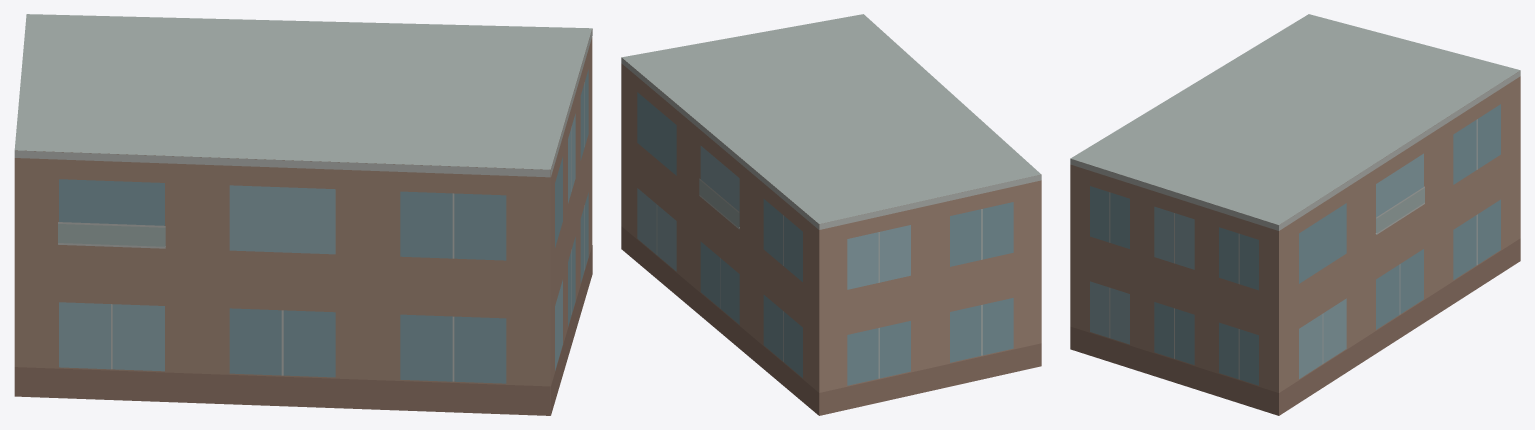
File: survey-upis-32738386.glb
3 views of the same model, side by side, from view 1: azimuth 30°, elevation 25°; view 2: azimuth 150°, elevation 25°; view 3: azimuth 270°, elevation 25° (orthographic). The views are drawn at different scales.
Parts seen in each view (by area): view 1: survey-upis-32738386.tmp; view 2: survey-upis-32738386.tmp; view 3: survey-upis-32738386.tmp.
Part boxes in pixels (x1,y1,x2,y2): survey-upis-32738386.tmp: [14, 14, 592, 415]; survey-upis-32738386.tmp: [621, 14, 1041, 415]; survey-upis-32738386.tmp: [1070, 14, 1520, 415].
Size of the model in its own units: 18.77 by 7.9 by 16.92.
